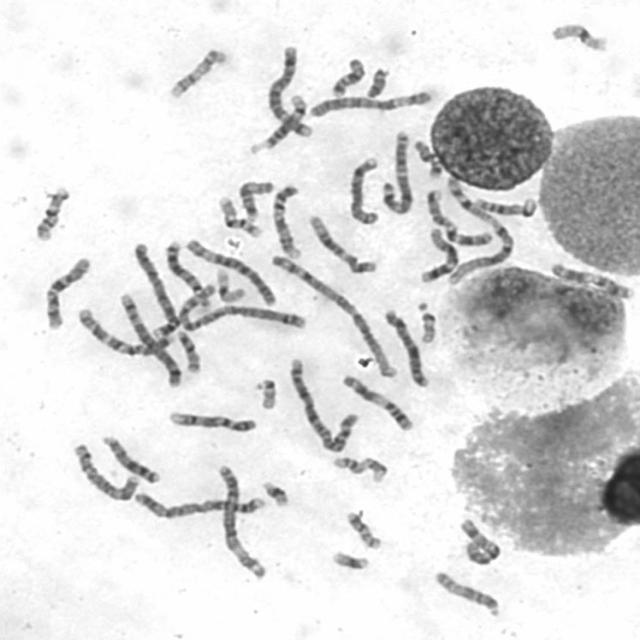A1: (264, 250, 400, 380), (440, 172, 517, 287)
A2: (285, 352, 359, 454), (177, 280, 307, 338)
A3: (212, 460, 270, 580), (377, 127, 416, 215)
B4: (129, 238, 186, 338), (128, 487, 269, 521)
B5: (114, 289, 183, 388), (264, 41, 314, 139)
C10: (40, 252, 92, 332), (456, 514, 504, 567)
C11: (337, 370, 417, 433), (546, 257, 636, 301)
C12: (304, 209, 380, 276), (415, 224, 460, 284)
C6: (180, 234, 278, 306), (304, 84, 436, 120)
C7: (73, 303, 175, 357), (421, 188, 493, 250)
C8: (68, 438, 142, 503), (345, 152, 382, 226)
C9: (267, 179, 305, 261), (164, 406, 260, 434)
D13: (161, 237, 214, 306), (96, 430, 162, 485)
D14: (244, 89, 310, 157), (469, 192, 540, 218)
D15: (429, 566, 504, 618), (233, 176, 276, 222)
E16: (213, 190, 265, 240), (30, 182, 72, 242)
E17: (164, 43, 230, 101), (328, 451, 390, 484)
E18: (327, 52, 368, 98), (412, 140, 446, 185)
F19: (547, 18, 611, 53), (211, 262, 248, 304)
F20: (342, 507, 384, 551), (172, 326, 203, 374)
G21: (328, 546, 372, 573), (258, 476, 292, 508)
G22: (413, 298, 439, 345), (251, 374, 279, 412)
X: (379, 304, 431, 389)
Y: (361, 63, 391, 99)
